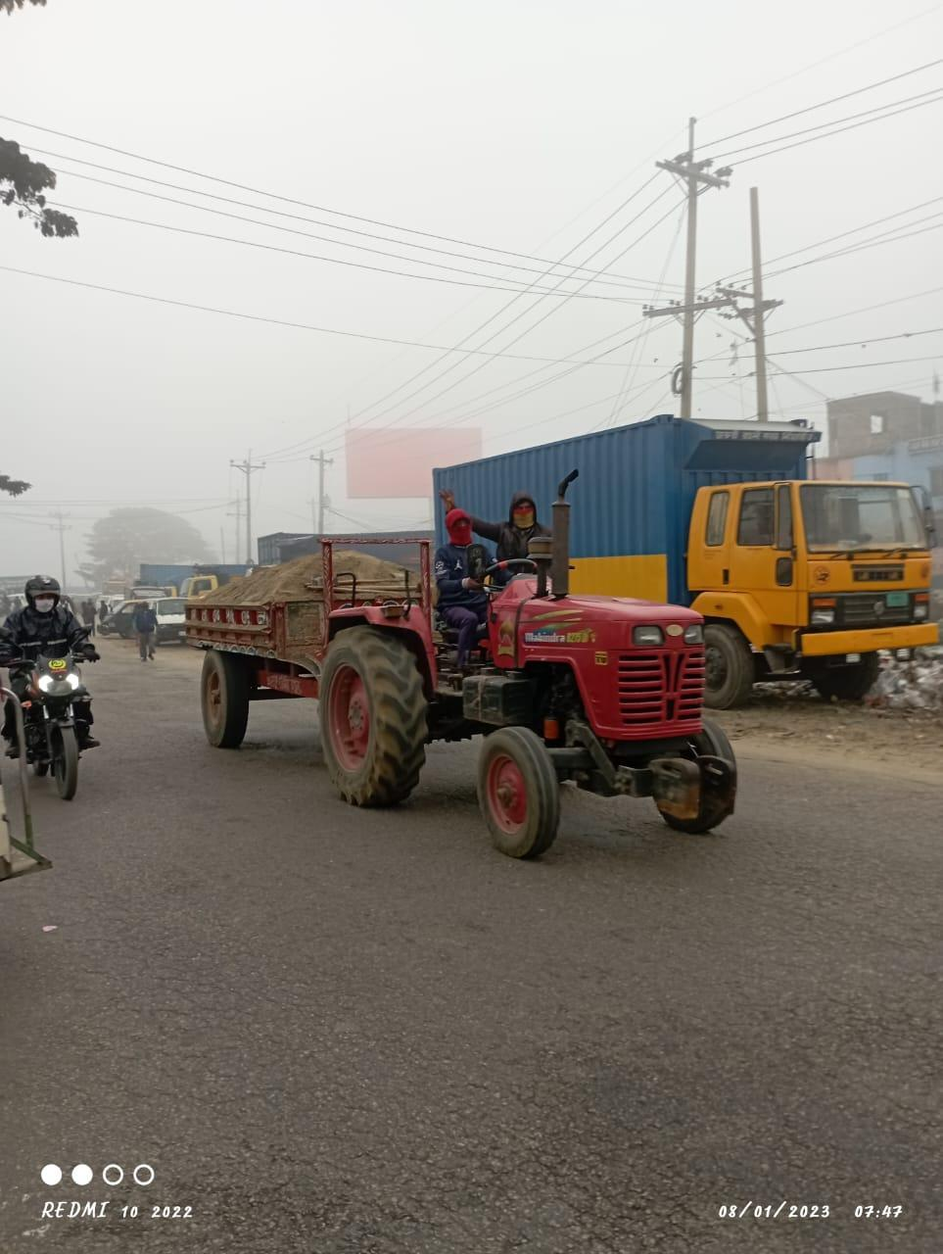Bike: (4, 564, 125, 810)
Truck: (176, 494, 762, 865), (429, 414, 942, 701)
